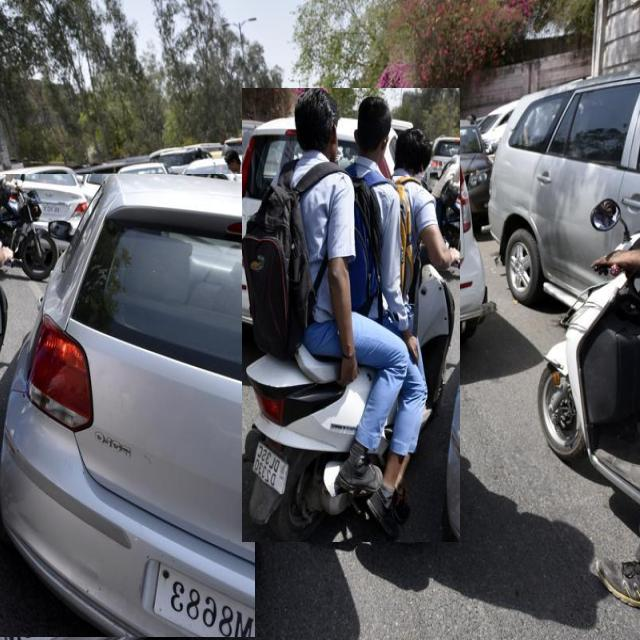car: (0, 175, 255, 637), (489, 70, 640, 304)
motorcycle: (242, 89, 460, 542), (198, 150, 269, 279)
